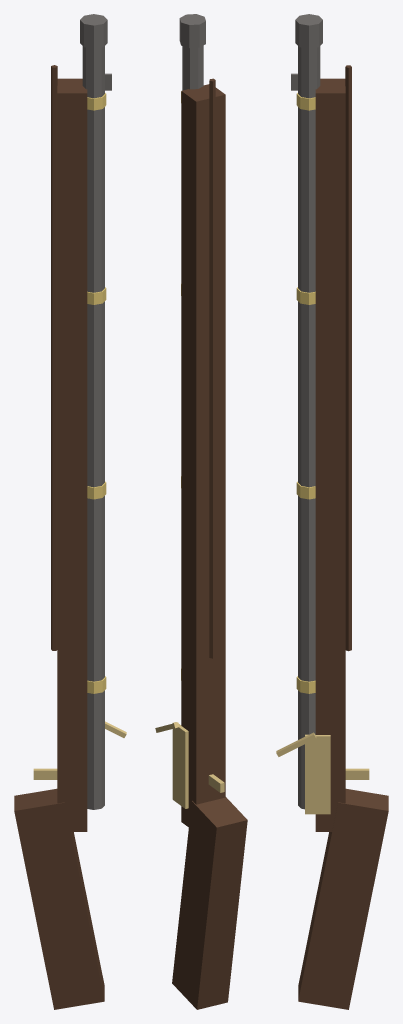
Rendered from teppo_t4.glb.
3 views of the same model, side by side, from view 1: azimuth 90°, elevation 25°; view 2: azimuth 210°, elevation 25°; view 3: azimuth 270°, elevation 25° (orthographic).
Visible parts, largest first — view 1: dai, tsutsu, daijiri, karuka, kin_obi, sakiguchi, hikigane; view 2: dai, daijiri, karuka, karakuri, tsutsu, sakiguchi; view 3: dai, tsutsu, daijiri, karuka, karakuri, kin_obi, sakiguchi, hibasami, hikigane.
Part boxes in pixels (x1,y1,x2,y2): dai: (57, 78, 87, 831); tsutsu: (82, 46, 104, 809); daijiri: (14, 788, 104, 1009); karuka: (51, 65, 57, 650); kin_obi: (87, 93, 106, 693); sakiguchi: (80, 14, 107, 48); hikigane: (33, 768, 57, 779); dai: (181, 84, 225, 827); daijiri: (172, 797, 247, 1009); karuka: (209, 78, 215, 658); karakuri: (172, 722, 188, 808); tsutsu: (182, 45, 203, 90); sakiguchi: (179, 14, 205, 47); dai: (315, 78, 345, 831); tsutsu: (298, 46, 320, 809); daijiri: (298, 788, 388, 1009); karuka: (345, 65, 351, 651); karakuri: (305, 734, 330, 814); kin_obi: (296, 93, 315, 693); sakiguchi: (295, 14, 322, 48); hibasami: (276, 732, 316, 756); hikigane: (345, 768, 369, 779).
Bounding box in the file's own units: 0.05 × 1.26 × 0.1312.
